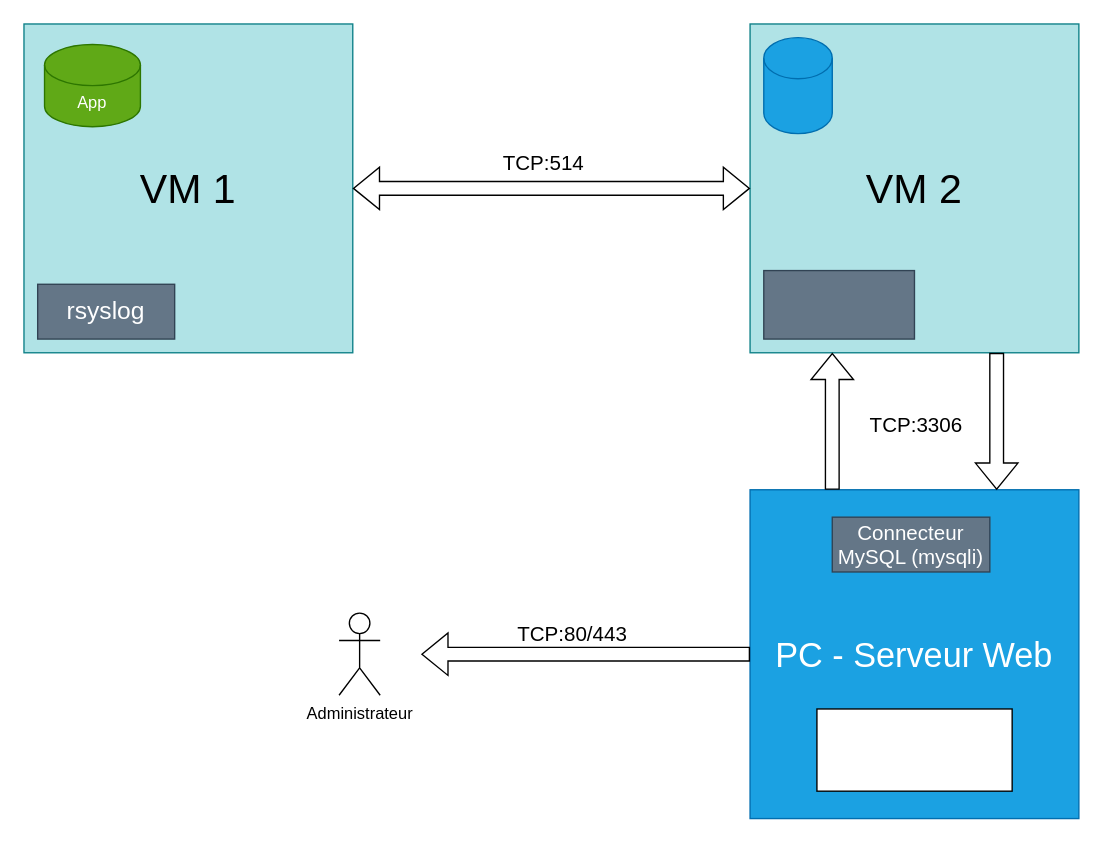
The diagram is 1103 pixels wide and 843 high, and some of its shapes have lost their labels. The centre of each missing label's shape, as x and y in pixels:
"BDD MySQL" goes at point (797, 85).
"Page HTML/PHP Service Apache" goes at point (914, 749).
"rsyslog logrotate" goes at point (838, 304).
